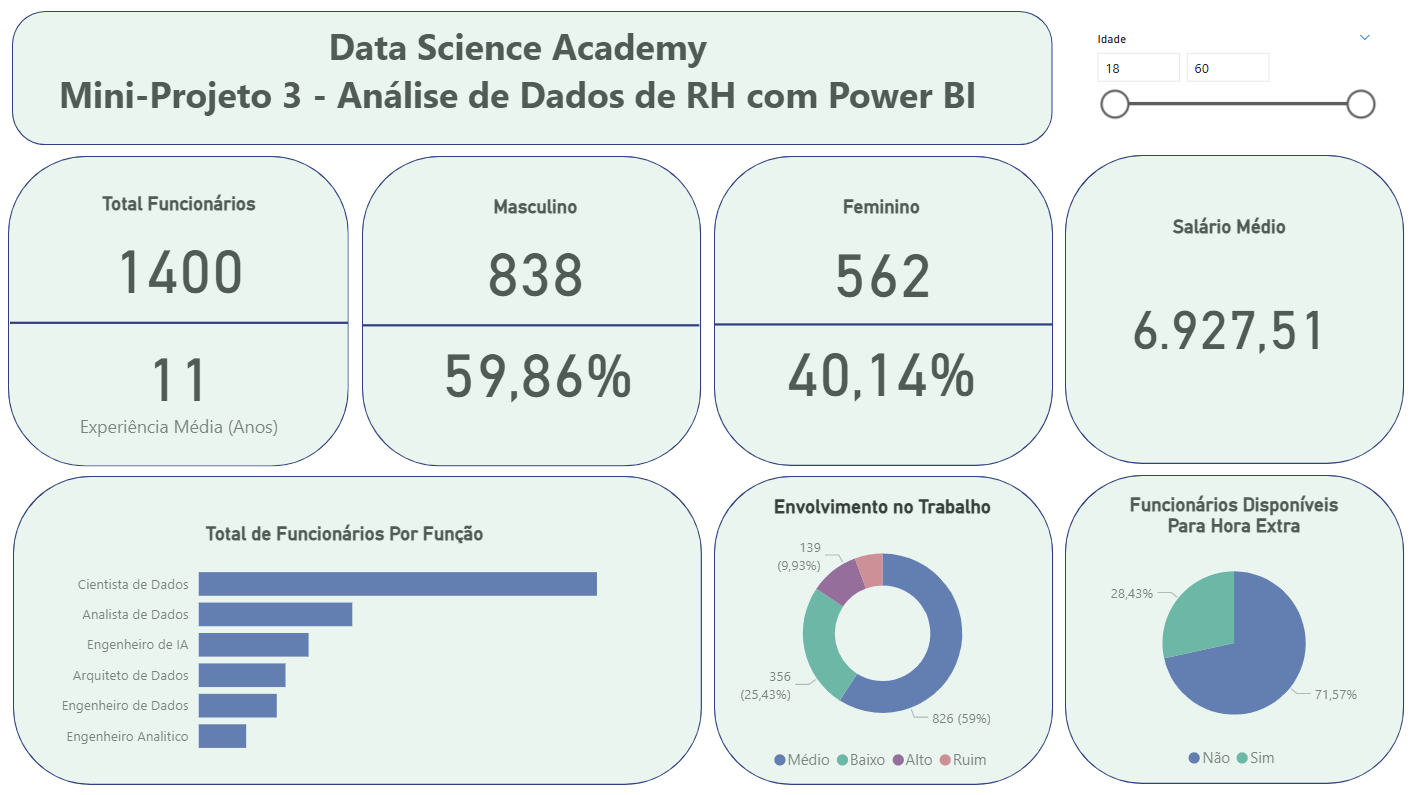

Layout of this report page (visuals, bound fields, positions):
{"tool":"powerbi","page":{"name":"DashboardRH","canvas":[1280,720],"ordinal":0},"visuals":[{"type":"card","title":"Total Funcionários","fields":{"Values":["Medidas.TotalFunc"]},"box":[46.8,177.7,238.1,108.7],"z":0},{"type":"card","title":"Salário Médio","fields":{"Values":["Medidas.SalarioMedio"]},"box":[982.2,197.6,247.7,173.4],"z":1000},{"type":"card","title":"Masculino","fields":{"Values":["Medidas.TotalMasculino"]},"box":[391.5,179.7,187.2,108.7],"z":2000},{"type":"card","fields":{"Values":["Medidas.% Masculino"]},"box":[392.2,288.5,187.2,92.2],"z":3000},{"type":"card","title":"Feminino","fields":{"Values":["Medidas.TotalFeminino"]},"box":[701.4,179.7,187.1,109.1],"z":4000},{"type":"card","fields":{"Values":["Medidas.% Feminino"]},"box":[701.4,288.7,187.1,91.7],"z":5000},{"type":"pieChart","title":"Funcionários Disponíveis Para Hora Extra","fields":{"Category":["DatasetRH.Disponivel_Hora_Extra"],"Y":["Medidas.TotalFunc"]},"box":[979.7,446.8,261.7,256],"z":6000},{"type":"barChart","title":"Total de Funcionários Por Função","fields":{"Category":["DatasetRH.Funcao"],"Y":["Medidas.TotalFunc"]},"box":[48.3,472.8,531.3,218.8],"z":7000},{"type":"textbox","box":[29.7,18.6,878.6,116.5],"z":8000},{"type":"shape","box":[16.1,14.9,931.9,120.2],"z":9000},{"type":"slicer","fields":{"Values":["DatasetRH.Idade"]},"box":[975,29.1,269.8,115.6],"z":10000},{"type":"card","fields":{"Values":["Avg(DatasetRH.Anos_Experiencia)"]},"box":[46.8,294.7,238.1,108.7],"z":11000},{"type":"donutChart","title":"Envolvimento no Trabalho","fields":{"Category":["DatasetRH.Envolvimento_Trabalho"],"Y":["Medidas.TotalFunc"]},"box":[653.9,449,284,256],"z":12000},{"type":"shape","box":[644.7,431.9,303.7,276.6],"z":13000},{"type":"shape","box":[959.3,430.5,303.7,276.6],"z":14000},{"type":"shape","box":[959.3,144.4,303.7,276.6],"z":15000},{"type":"shape","box":[644.4,145,303.6,277.6],"z":16000},{"type":"shape","box":[329.5,145.1,303.7,278],"z":17000},{"type":"shape","box":[12.9,145.5,305.2,278.1],"z":18000},{"type":"shape","box":[16.9,431.9,616.9,276.6],"z":19000},{"type":"shape","box":[329.5,146.4,302.4,299.7],"z":20000},{"type":"shape","box":[645.6,146.2,302.4,299.9],"z":21000},{"type":"shape","box":[14.2,145.5,302.6,298.8],"z":22000}]}

Visuals, with their boxes in screenshot pixels (x1, y1, x2, y2), scaled from the page's 1280x720 canvas onto the 1418x795 screenshot:
"Total Funcionários" card: left=52, top=196, right=316, bottom=316
"Salário Médio" card: left=1088, top=218, right=1362, bottom=410
"Masculino" card: left=434, top=198, right=641, bottom=318
card - Medidas.% Masculino: left=434, top=319, right=642, bottom=420
"Feminino" card: left=777, top=198, right=984, bottom=319
card - Medidas.% Feminino: left=777, top=319, right=984, bottom=420
"Funcionários Disponíveis Para Hora Extra" pieChart: left=1085, top=493, right=1375, bottom=776
"Total de Funcionários Por Função" barChart: left=54, top=522, right=642, bottom=764
textbox: left=33, top=21, right=1006, bottom=149
shape: left=18, top=16, right=1050, bottom=149
slicer - DatasetRH.Idade: left=1080, top=32, right=1379, bottom=160
card - Avg(DatasetRH.Anos_Experiencia): left=52, top=325, right=316, bottom=445
"Envolvimento no Trabalho" donutChart: left=724, top=496, right=1039, bottom=778
shape: left=714, top=477, right=1051, bottom=782
shape: left=1063, top=475, right=1399, bottom=781
shape: left=1063, top=159, right=1399, bottom=465
shape: left=714, top=160, right=1050, bottom=467
shape: left=365, top=160, right=701, bottom=467
shape: left=14, top=161, right=352, bottom=468
shape: left=19, top=477, right=702, bottom=782
shape: left=365, top=162, right=700, bottom=493
shape: left=715, top=161, right=1050, bottom=493
shape: left=16, top=161, right=351, bottom=491
